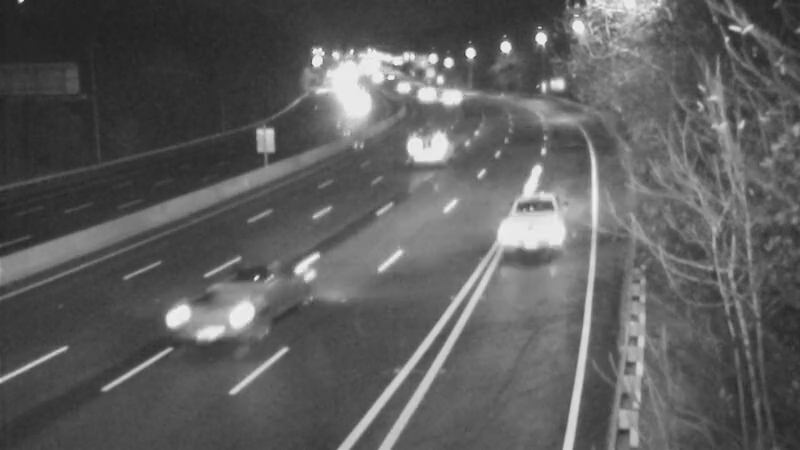vehicle: (156, 252, 266, 362), (495, 182, 575, 262), (376, 60, 426, 110), (402, 66, 452, 116), (427, 70, 477, 120), (413, 119, 463, 169)
